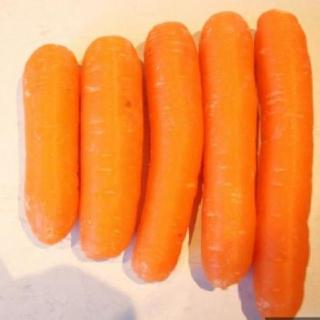carrot: (138, 19, 204, 299), (257, 7, 314, 320), (198, 8, 258, 292), (77, 34, 137, 266), (20, 40, 79, 247)
